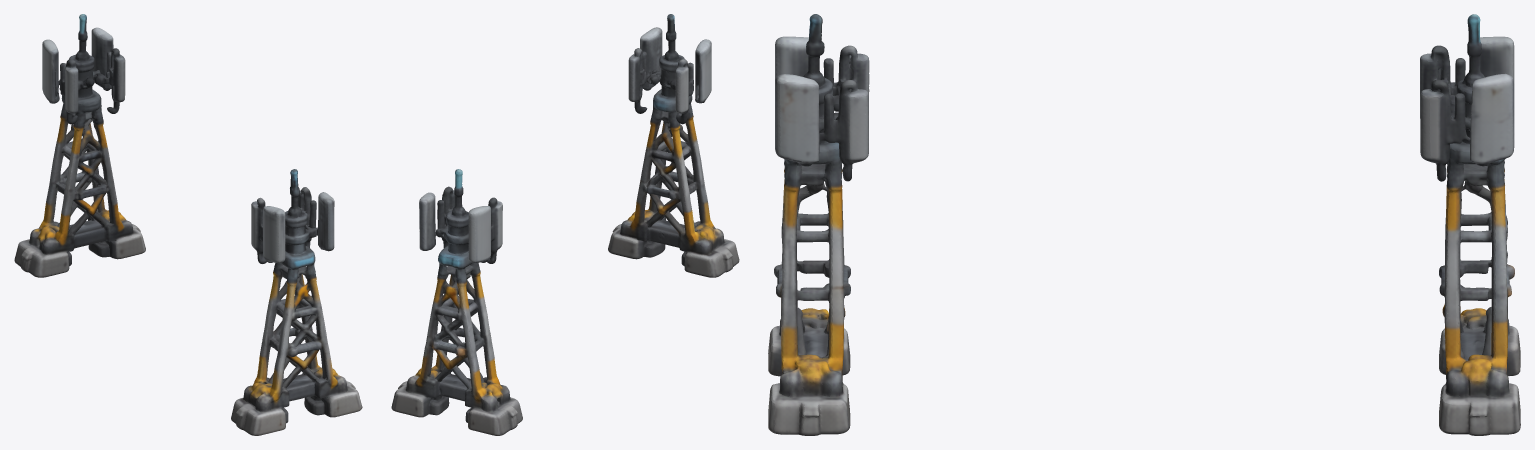
The model's file is relay.glb.
The picture shows the model from 3 angles, left to right: view 1: azimuth 30°, elevation 25°; view 2: azimuth 150°, elevation 25°; view 3: azimuth 270°, elevation 25°; orthographic projection. The views are drawn at different scales.
Visible parts, largest first — view 1: world; view 2: world; view 3: world.
Part boxes in pixels (box(x1,y1,x2,y2)): world: box(14, 14, 362, 435); world: box(391, 14, 739, 435); world: box(768, 14, 1520, 435).
Size of the model in its own units: 7.47 by 15 by 26.98.
Materials: 1 (1 with a texture image).
